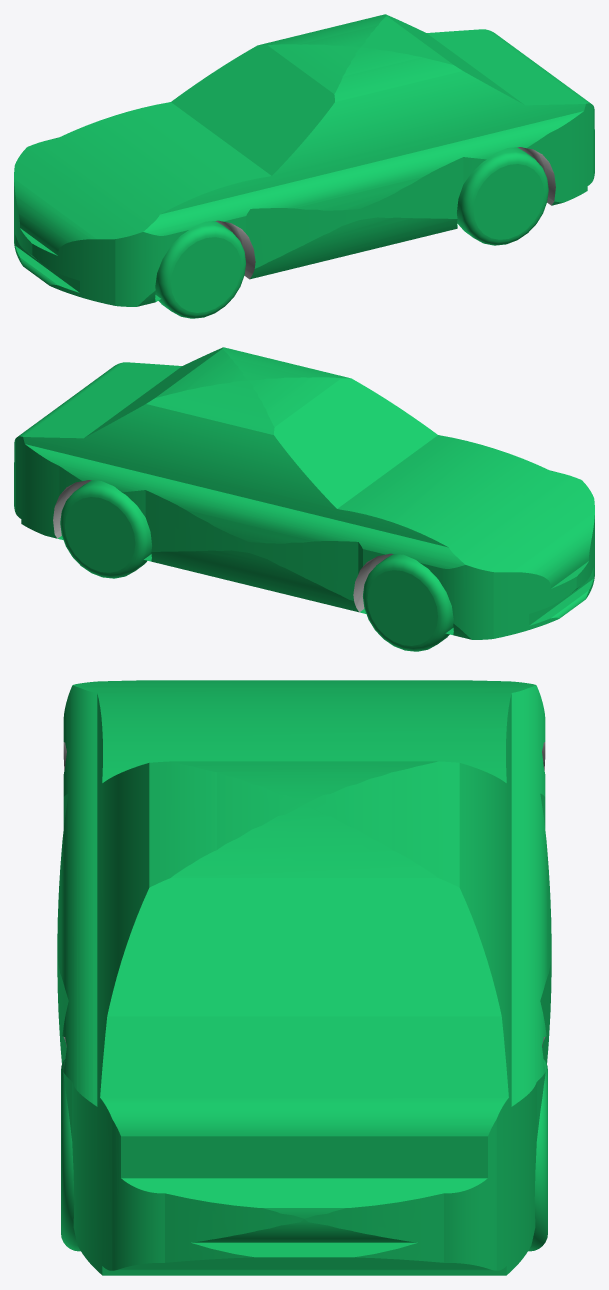
Rendered from auto.fbx.
3 views of the same model, one above another, from view 1: azimuth 30°, elevation 25°; view 2: azimuth 150°, elevation 25°; view 3: azimuth 270°, elevation 25° (orthographic). The views are drawn at different scales.
Visible parts, largest first — view 1: Model; view 2: Model; view 3: Model.
Boxes of the visible parts, x1,y1,x2,y2 form: Model: [14, 14, 594, 318]; Model: [14, 347, 594, 651]; Model: [57, 680, 551, 1275].
Size of the model in its own units: 786 by 250 by 317.
